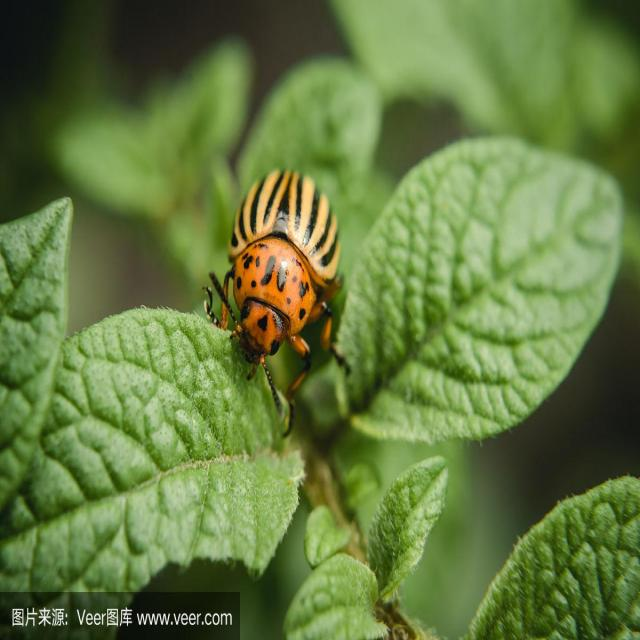ShuCaiHuaBanChong-Grown-: (217, 137, 330, 366)
